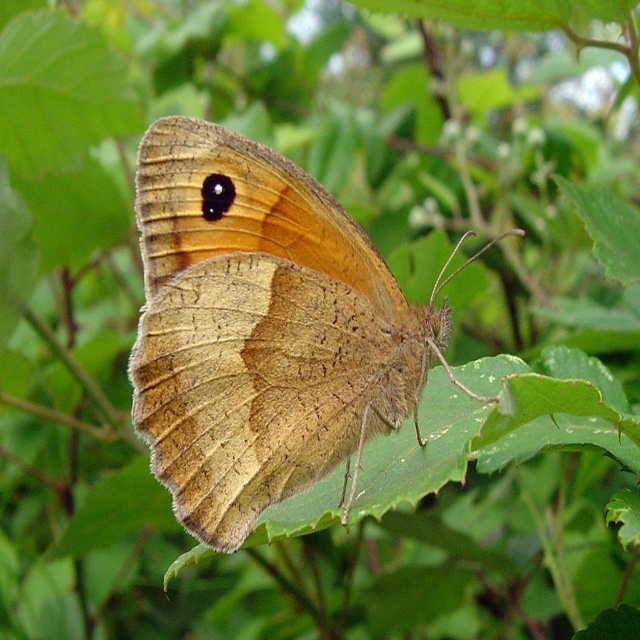Butterfly: (120, 117, 461, 586)
